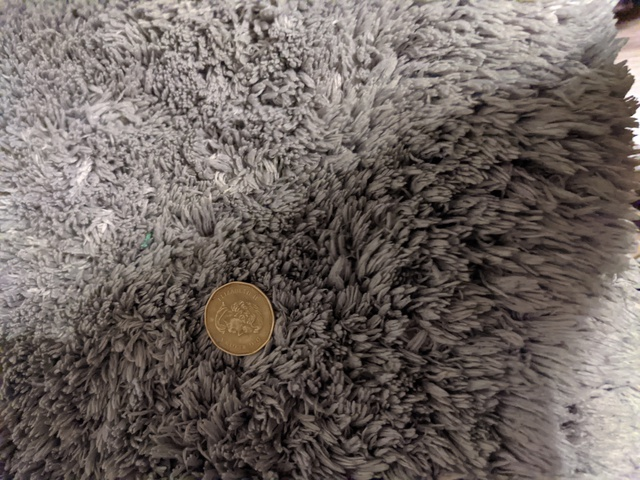loonie: (192, 272, 281, 355)
